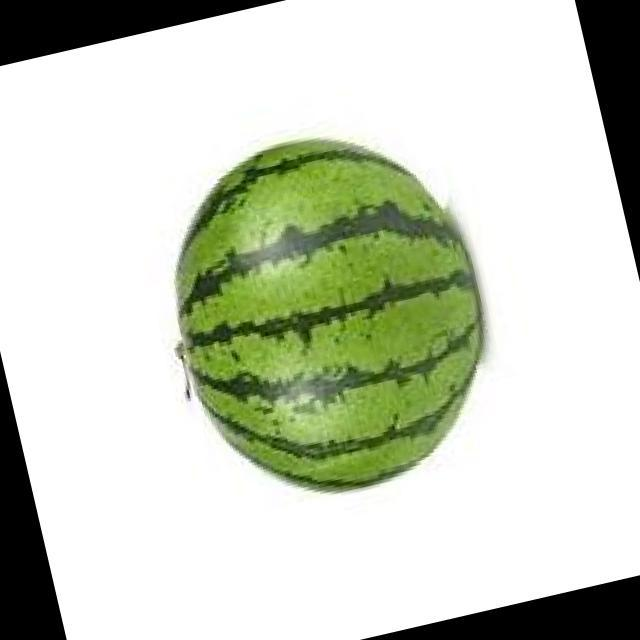watermelon: (174, 135, 492, 494)
